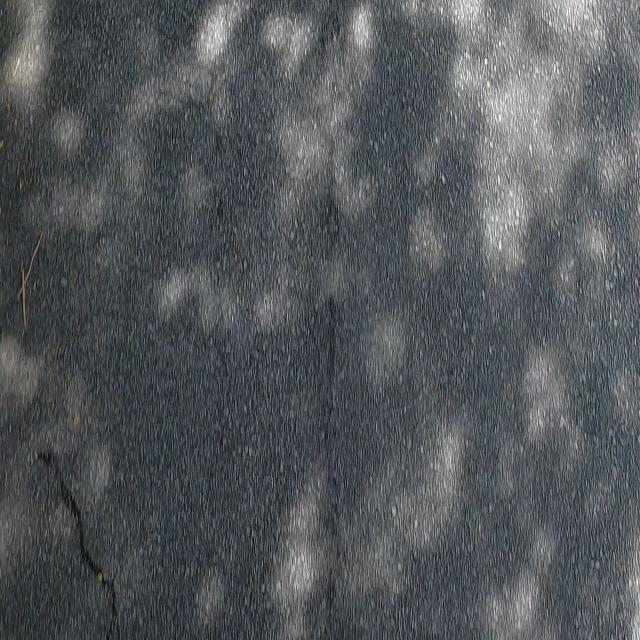Retak-Memanjang: (40, 445, 124, 640)
